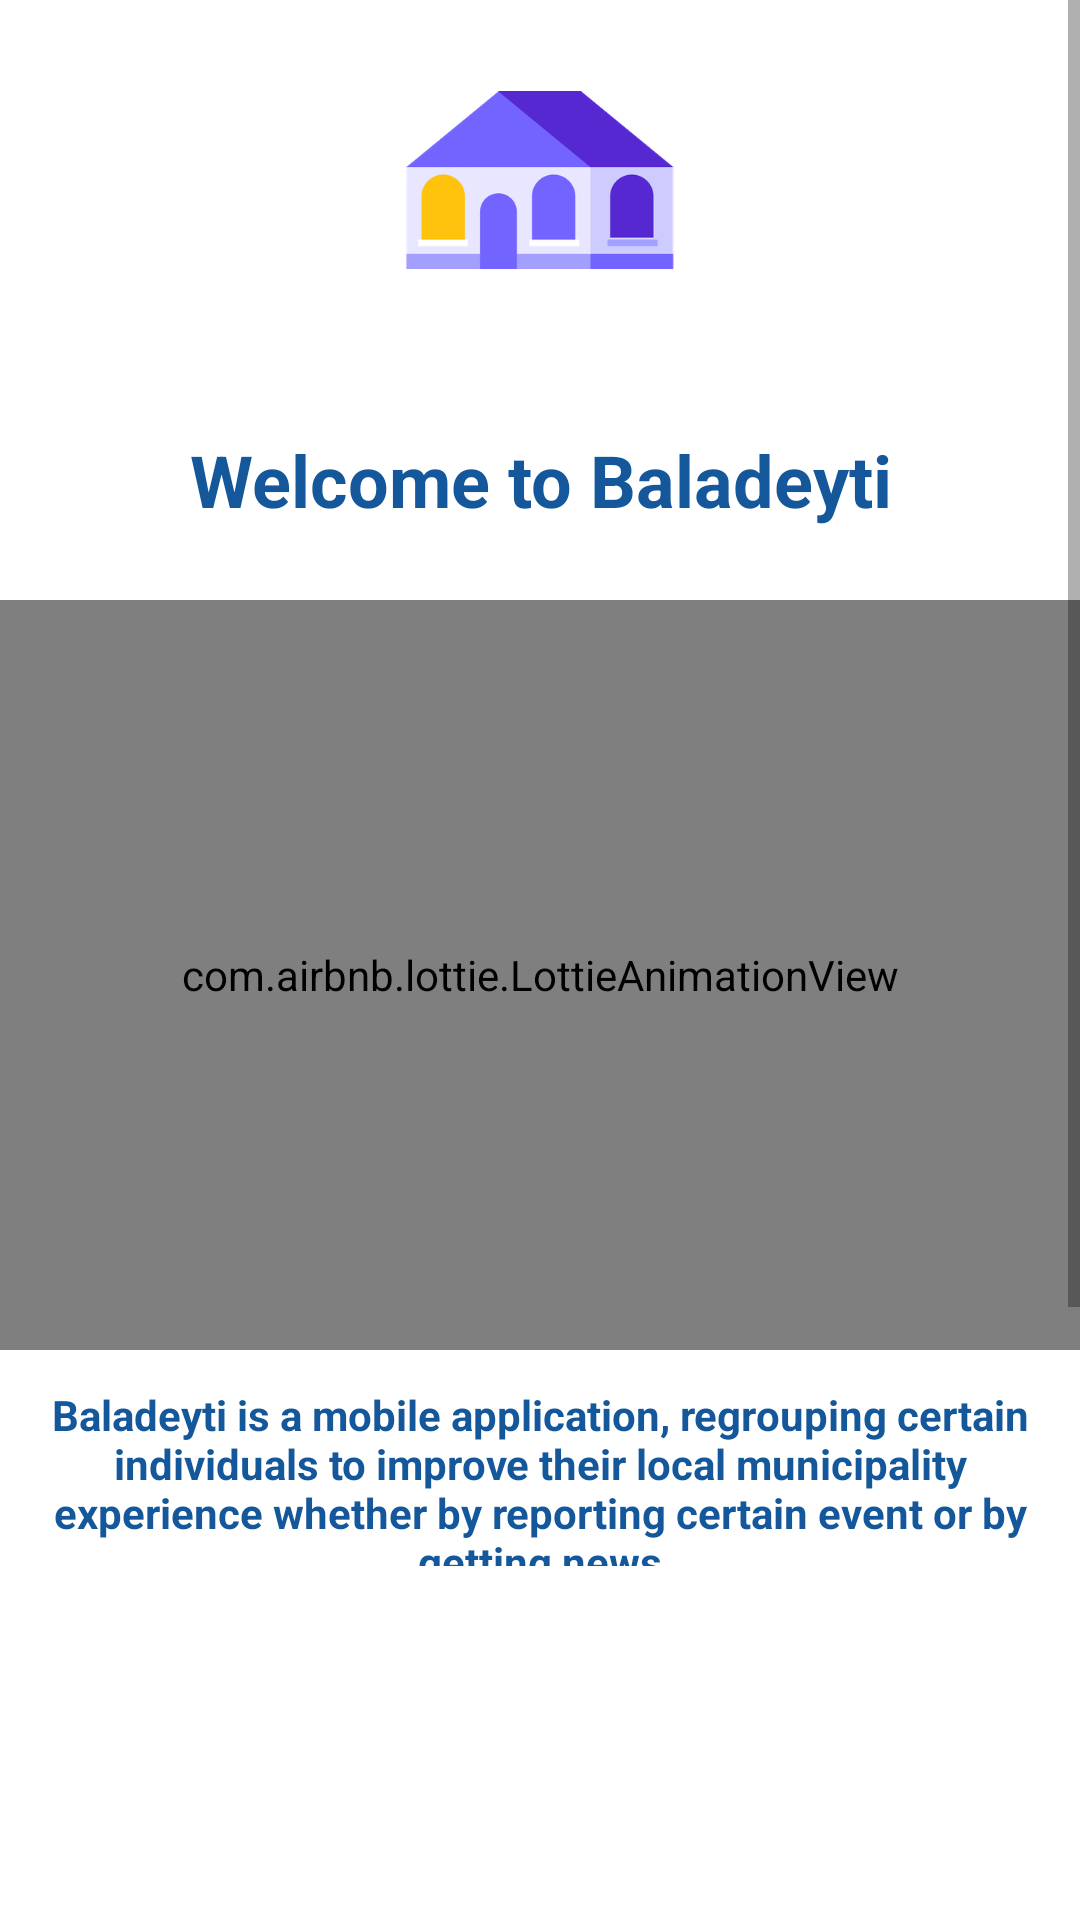

Icon bounding boxes for this 1080x1920 phone screenshot, format (left=x1, top=y1, right=x2, bottom=y2):
building: (left=406, top=91, right=674, bottom=269)
